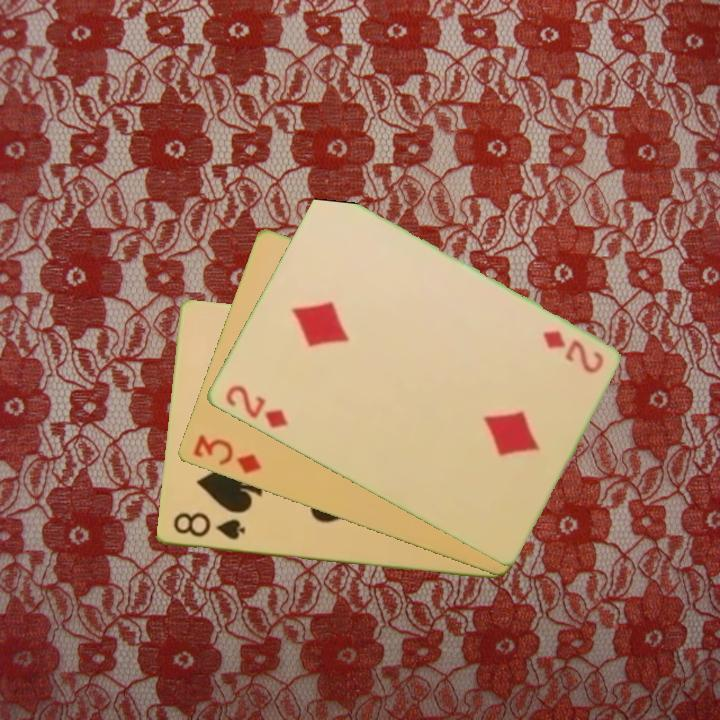2d: (221, 381, 290, 432), (538, 327, 606, 377)
3d: (189, 432, 264, 477)
8s: (169, 509, 248, 543)
